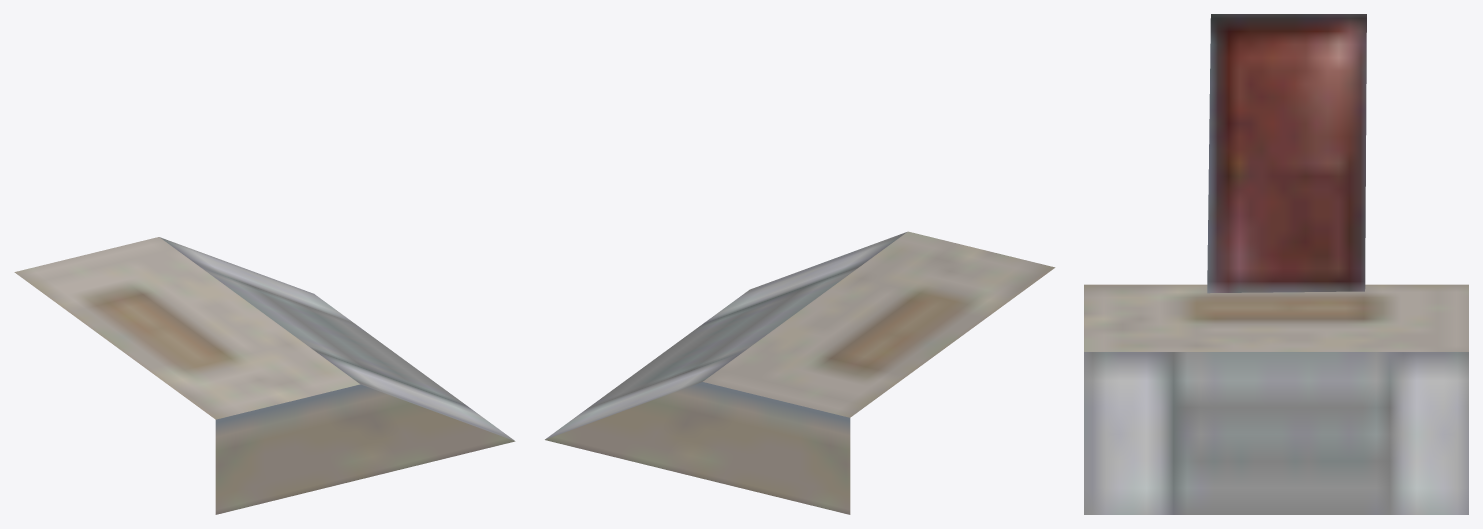
Rendered from houseSteps.glb.
3 views of the same model, side by side, from view 1: azimuth 30°, elevation 25°; view 2: azimuth 150°, elevation 25°; view 3: azimuth 270°, elevation 25° (orthographic). The views are drawn at different scales.
Parts seen in each view (by area): view 1: houseSteps; view 2: houseSteps; view 3: houseSteps.
Boxes of the visible parts, x1,y1,x2,y2 form: houseSteps: (14,237,515,514); houseSteps: (545,231,1055,514); houseSteps: (1084,14,1468,514).
Bounding box in the file's own units: 399 × 494 × 465.
Materials: 1 (1 with a texture image).
